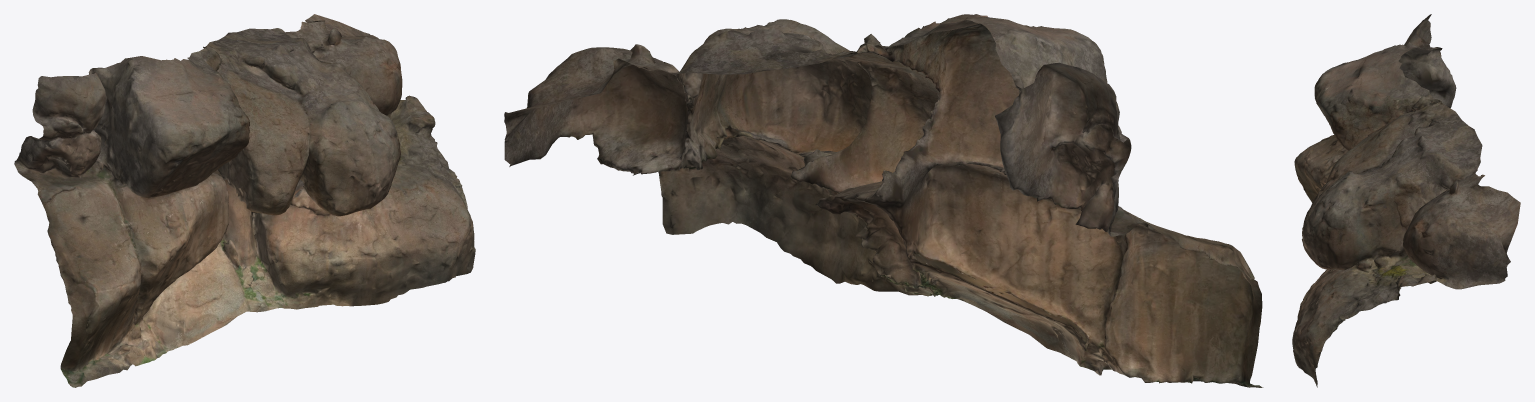
The model's file is namaqualand_cliff_01.glb.
The picture shows the model from 3 angles, left to right: view 1: azimuth 30°, elevation 25°; view 2: azimuth 150°, elevation 25°; view 3: azimuth 270°, elevation 25°; orthographic projection. The views are drawn at different scales.
Visible parts, largest first — view 1: drone_rock_01; view 2: drone_rock_01; view 3: drone_rock_01.
Part boxes in pixels (x1,y1,x2,y2): drone_rock_01: (14, 14, 475, 387); drone_rock_01: (504, 14, 1263, 387); drone_rock_01: (1292, 14, 1520, 387).
Bounding box in the file's own units: 8.28 × 4.96 × 4.39.
Materials: 1 (1 with a texture image).
